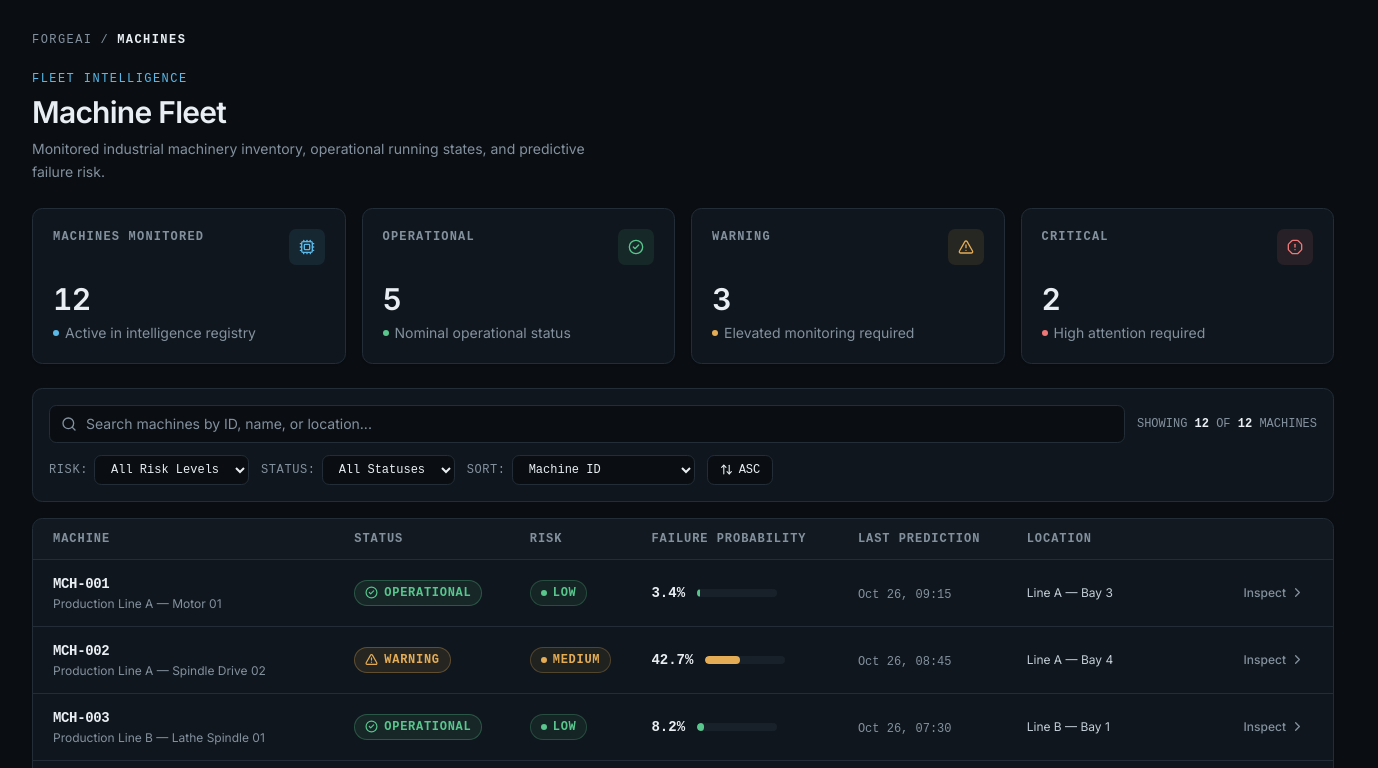
Test: Machine Fleet Experience (Part 8) › navigates to the machine detail route when a machine row is clicked
This screenshot has width=1378, height=768.
Click the row named "Machine MCH-001". click: (683, 592)
box: 33,559 -> 1333,626
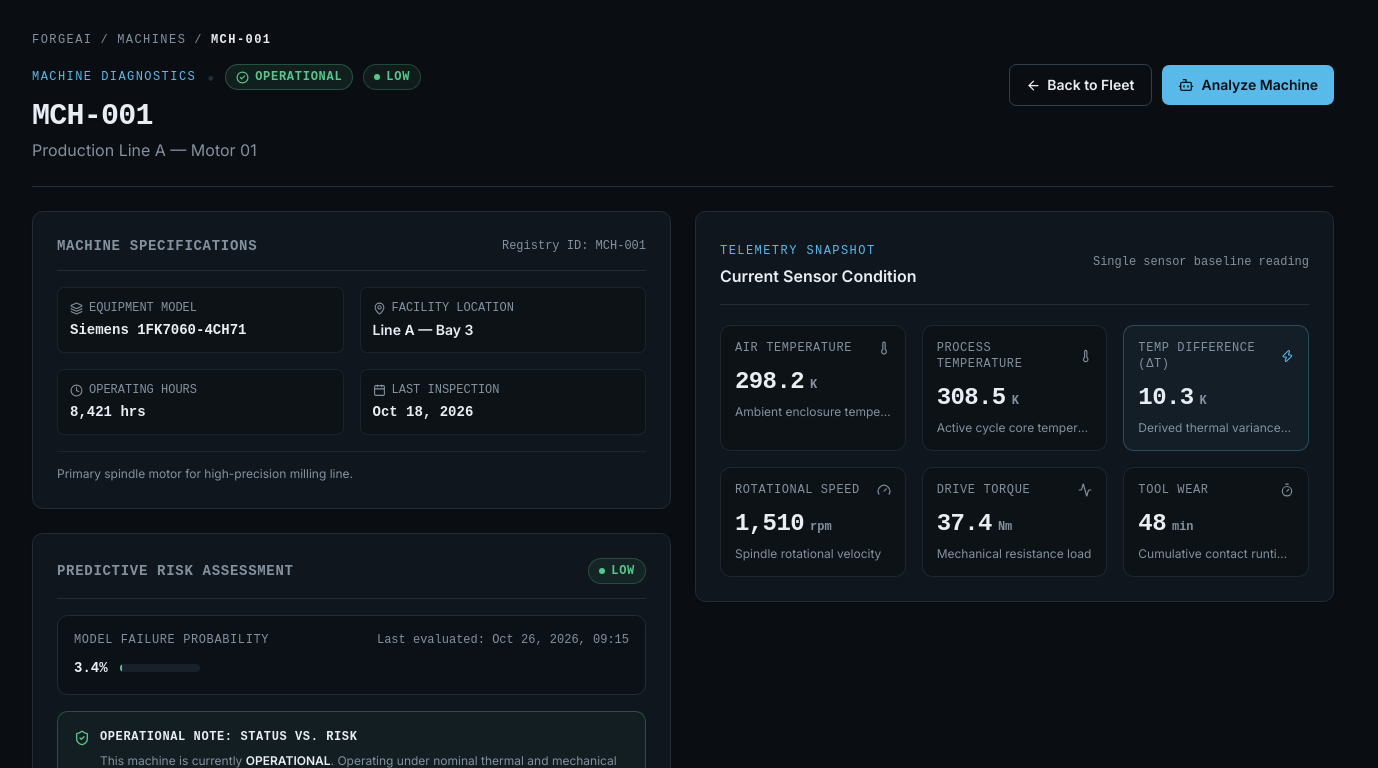
Result: the text "Machine Diagnostics" is shown at 32,69 -> 196,85
Result: the heading "MCH-001" is shown at 32,99 -> 153,133
